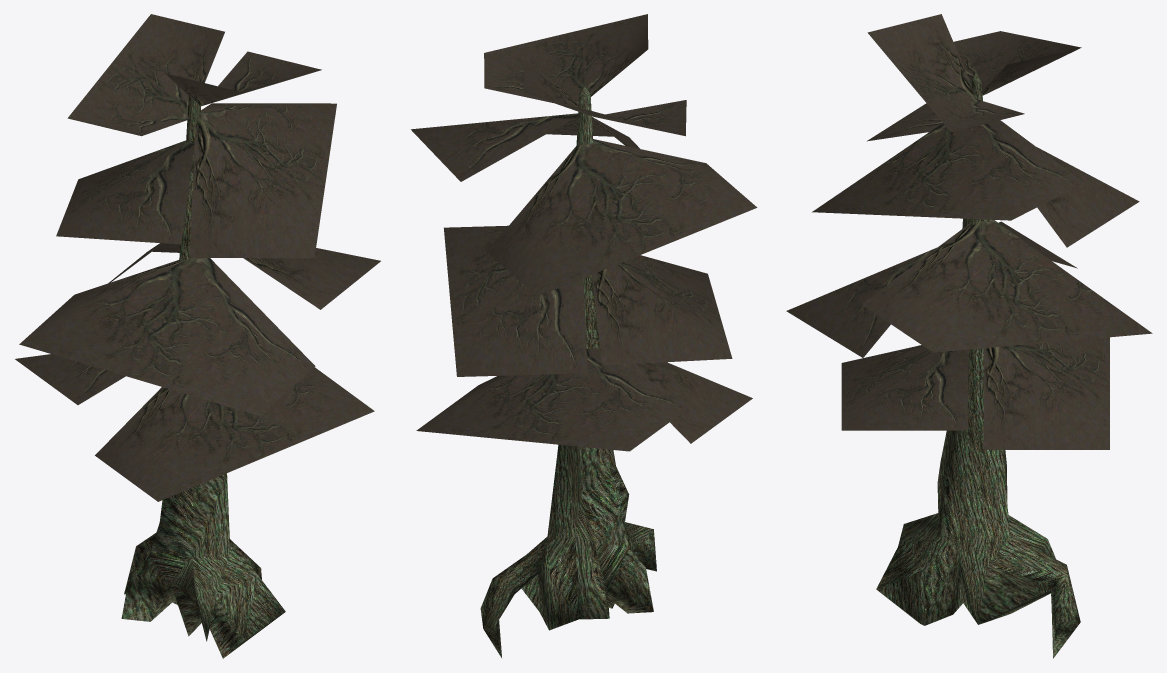
File: decd_dath_humungtree_l2.fbx
The picture shows the model from 3 angles, left to right: view 1: azimuth 30°, elevation 25°; view 2: azimuth 150°, elevation 25°; view 3: azimuth 270°, elevation 25°; orthographic projection.
Parts seen in each view (by area): view 1: mesh_node; view 2: mesh_node; view 3: mesh_node.
Part boxes in pixels (x1=…): mesh_node: x1=15, y1=14, x2=380, y2=658; mesh_node: x1=411, y1=14, x2=757, y2=657; mesh_node: x1=786, y1=14, x2=1152, y2=658.
Bounding box in the file's own units: 44.63 × 78.28 × 43.38.
2 materials, 2 textured.
